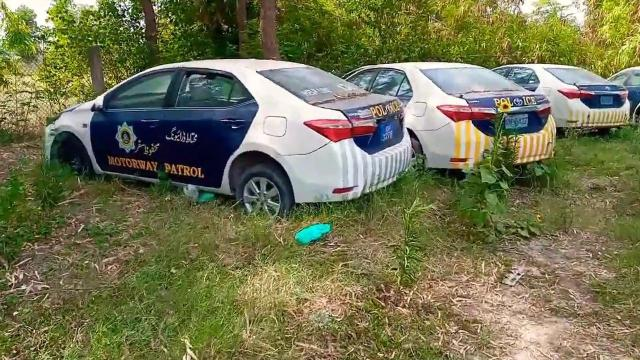police: (42, 60, 411, 219), (354, 54, 561, 174), (504, 58, 632, 138)
